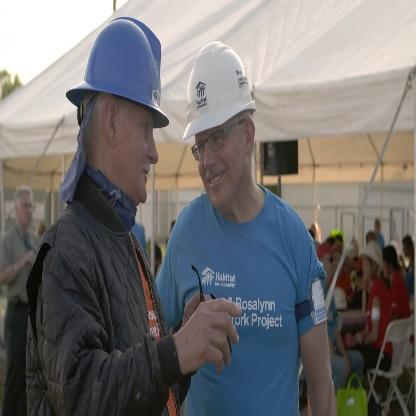helmet: (56, 10, 169, 212), (175, 27, 267, 202)
